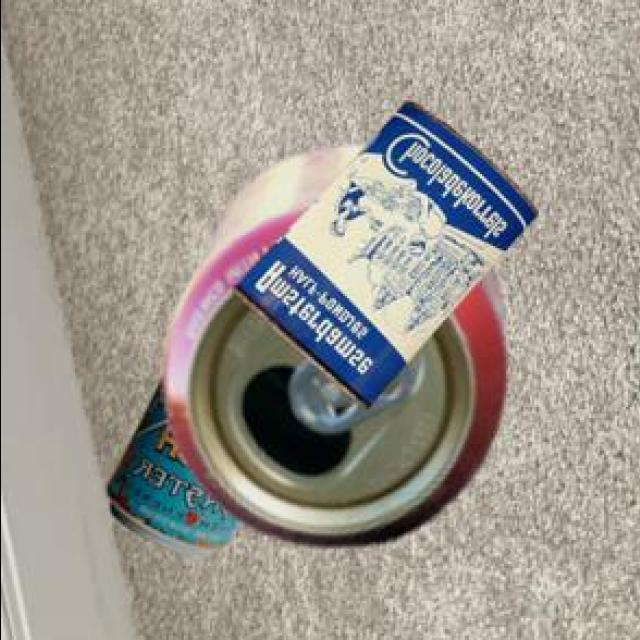logam: (158, 143, 502, 543), (227, 99, 532, 406), (103, 378, 234, 552)
